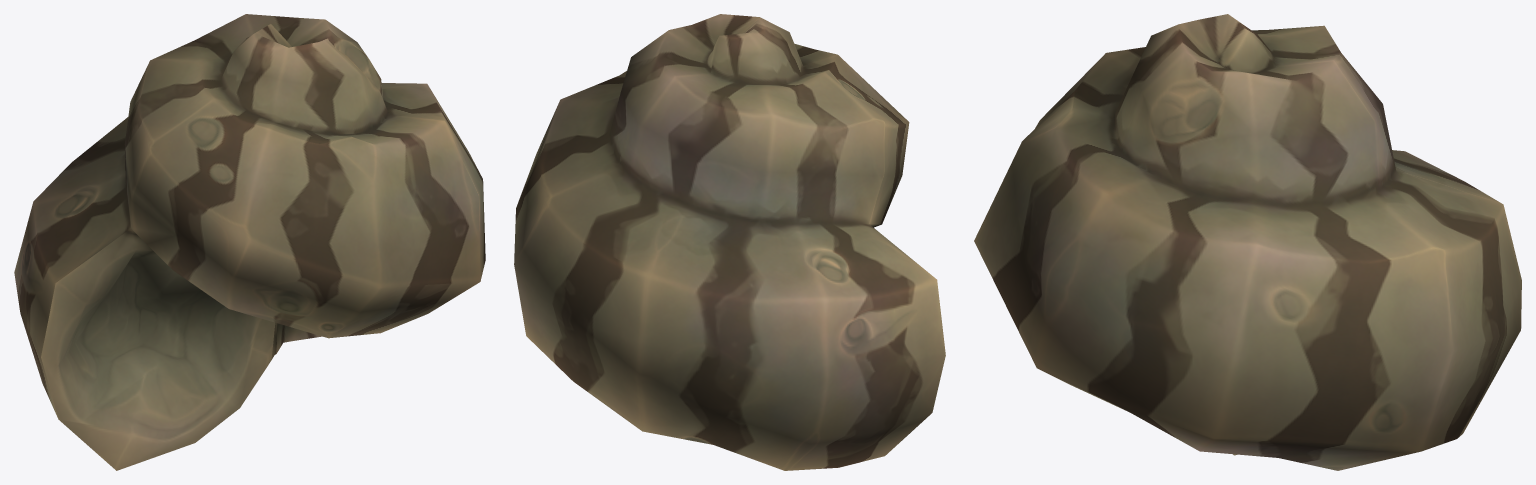
File: shell.fbx
The picture shows the model from 3 angles, left to right: view 1: azimuth 30°, elevation 25°; view 2: azimuth 150°, elevation 25°; view 3: azimuth 270°, elevation 25°; orthographic projection. The views are drawn at different scales.
Parts seen in each view (by area): view 1: shell_mesh; view 2: shell_mesh; view 3: shell_mesh.
Boxes of the visible parts, x1=… form: shell_mesh: x1=14, y1=14, x2=485, y2=470; shell_mesh: x1=514, y1=14, x2=945, y2=470; shell_mesh: x1=974, y1=14, x2=1521, y2=470.
Size of the model in its own units: 24.93 by 22.61 by 23.27.
1 material, 1 textured.
